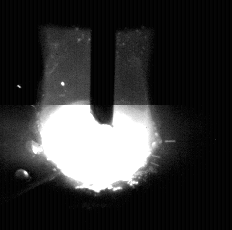arame: (91, 0, 115, 127)
poca: (32, 0, 156, 230)
